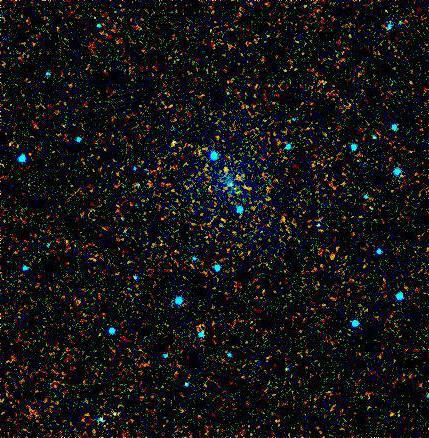star: (199, 154, 229, 184)
